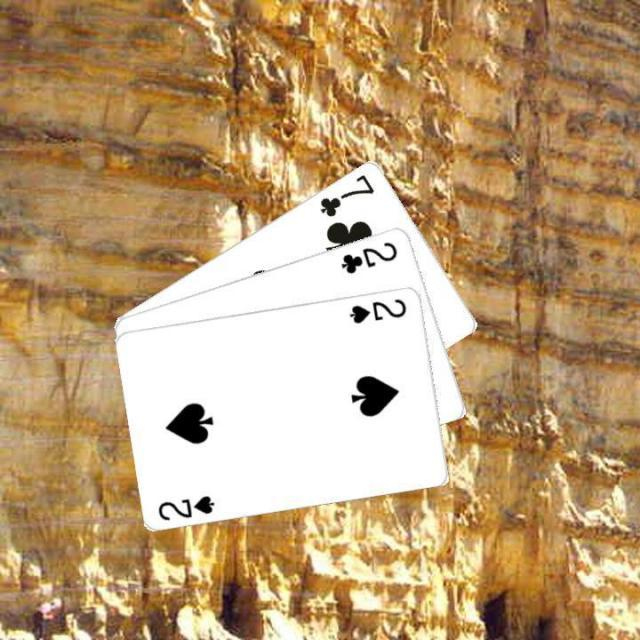2C: (337, 238, 400, 276)
2S: (346, 294, 409, 326), (154, 492, 217, 522)
7C: (316, 170, 376, 218)
